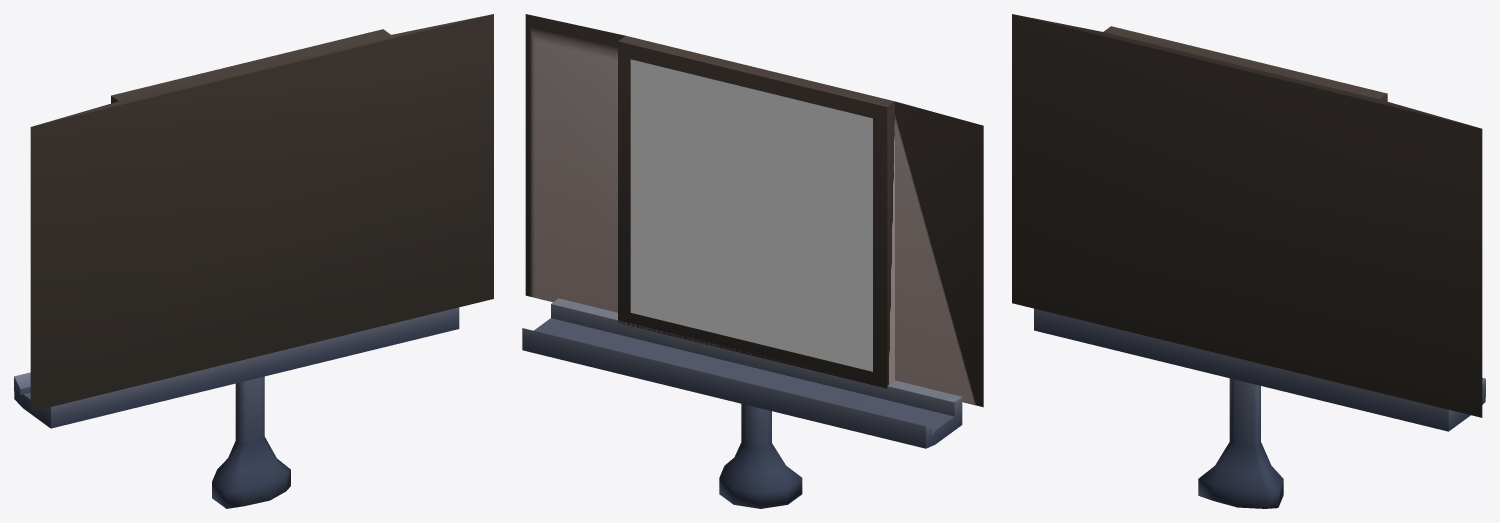
File: billboard.fbx
3 renders of one model, left to right at view 1: azimuth 30°, elevation 25°; view 2: azimuth 150°, elevation 25°; view 3: azimuth 330°, elevation 25°, orthographic. The views are drawn at different scales.
Parts seen in each view (by area): view 1: billboard1; view 2: billboard1, billboard_image; view 3: billboard1.
Part boxes in pixels (x1,y1,x2,y2): billboard1: (14, 14, 493, 508); billboard1: (522, 14, 983, 508); billboard_image: (630, 59, 872, 371); billboard1: (1012, 14, 1485, 508).
Bounding box in the file's own units: 1.7 × 1.5 × 0.2925.
Materials: 1 (1 with a texture image).
